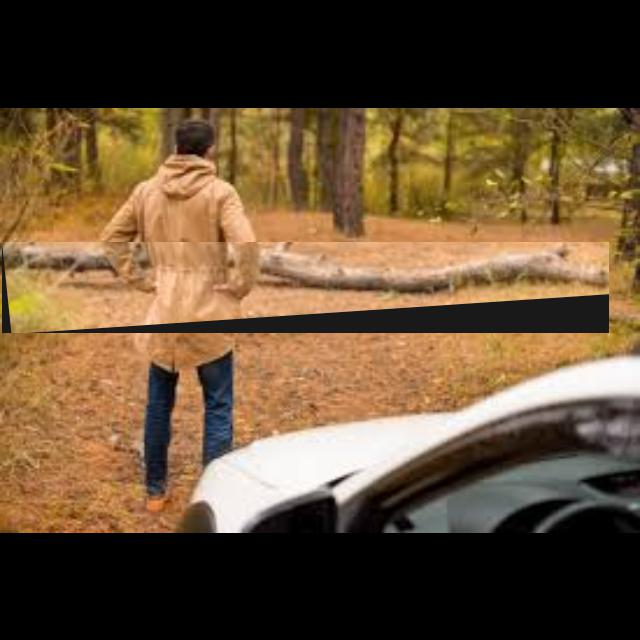Fallen Tree: (2, 242, 610, 334)
